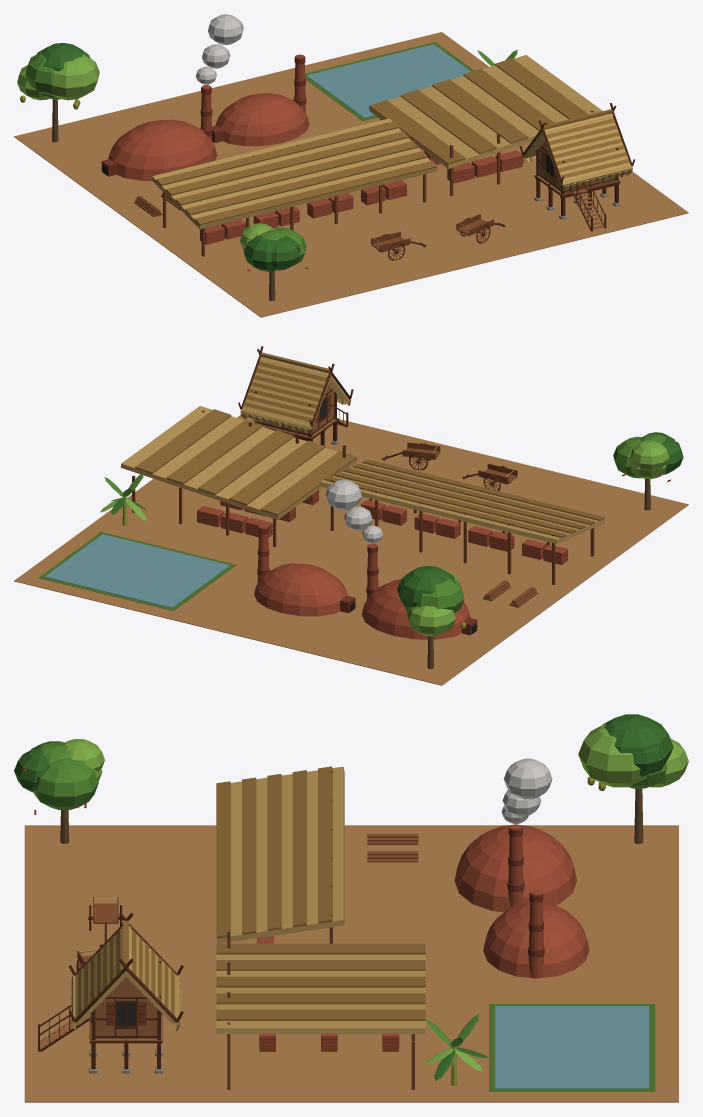
Rendered from factory_4.glb.
3 renders of one model, top to bottom at view 1: azimuth 30°, elevation 25°; view 2: azimuth 150°, elevation 25°; view 3: azimuth 270°, elevation 25°, orthographic. The views are drawn at different scales.
Visible parts, largest first — view 1: body; view 2: body; view 3: body.
Boxes of the visible parts, x1=… form: body: x1=14, y1=14, x2=688, y2=317; body: x1=14, y1=346, x2=688, y2=685; body: x1=14, y1=714, x2=688, y2=1102.
Size of the model in its own units: 32.56 by 8.92 by 32.92.
